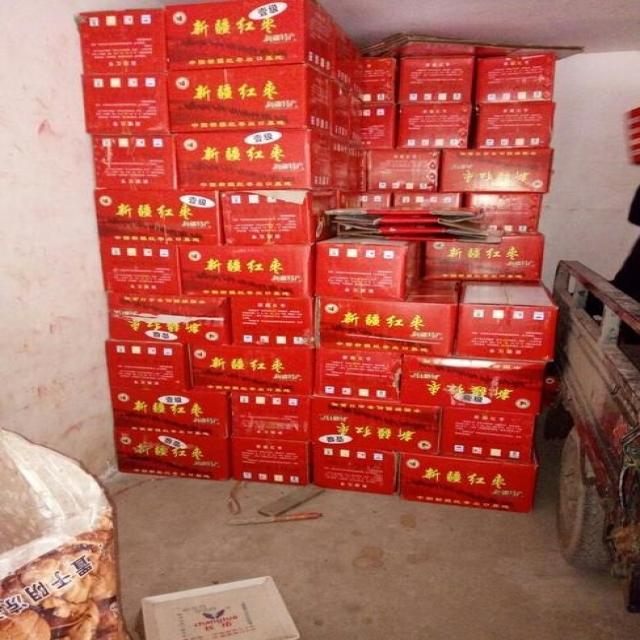box: (165, 0, 333, 78), (167, 64, 330, 134), (139, 575, 303, 640), (173, 129, 333, 190), (315, 289, 458, 355), (400, 354, 544, 413), (454, 280, 556, 361), (399, 453, 536, 513), (311, 395, 442, 455), (94, 190, 224, 244), (315, 236, 421, 301), (178, 245, 315, 295), (106, 292, 232, 345), (186, 344, 315, 395), (218, 189, 337, 244), (114, 427, 230, 480), (76, 8, 165, 74), (425, 231, 544, 280), (438, 407, 538, 465), (109, 386, 231, 432), (83, 73, 169, 134), (438, 149, 553, 192), (312, 348, 403, 401), (92, 134, 176, 190), (311, 443, 397, 496), (230, 295, 313, 347), (231, 391, 311, 441), (231, 436, 310, 486), (105, 341, 189, 388), (101, 244, 181, 293), (475, 54, 556, 102), (473, 100, 553, 148), (396, 102, 473, 149), (397, 56, 473, 102), (367, 149, 441, 192), (464, 192, 542, 231), (332, 21, 363, 101), (330, 79, 363, 146), (332, 137, 367, 191), (363, 102, 399, 150), (363, 57, 397, 102)
